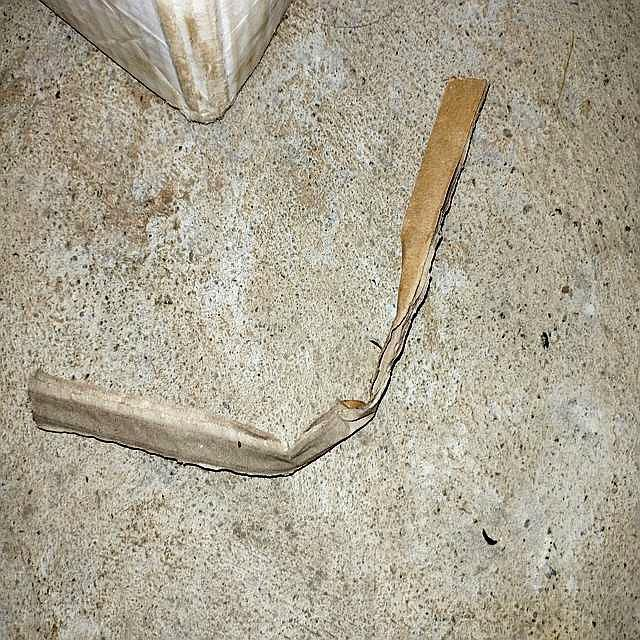Biodegradable: (37, 77, 513, 481), (41, 1, 307, 131)
